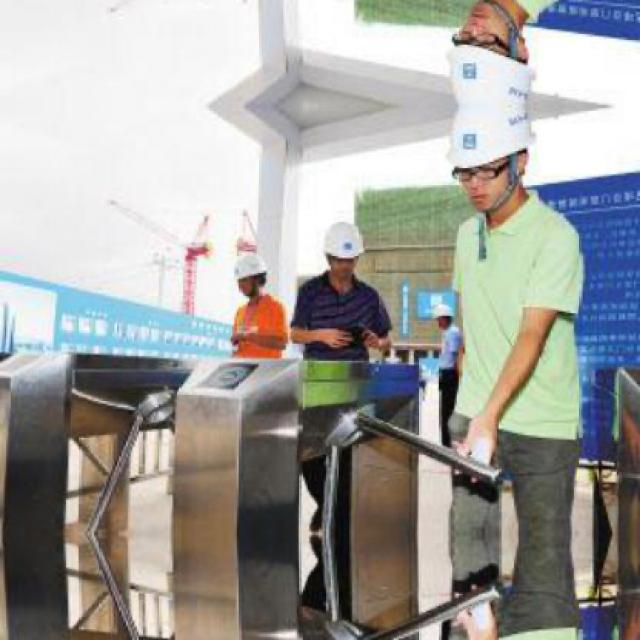helmet: (440, 110, 534, 222), (440, 0, 535, 105), (320, 215, 365, 282), (234, 245, 268, 298), (434, 300, 454, 332)
